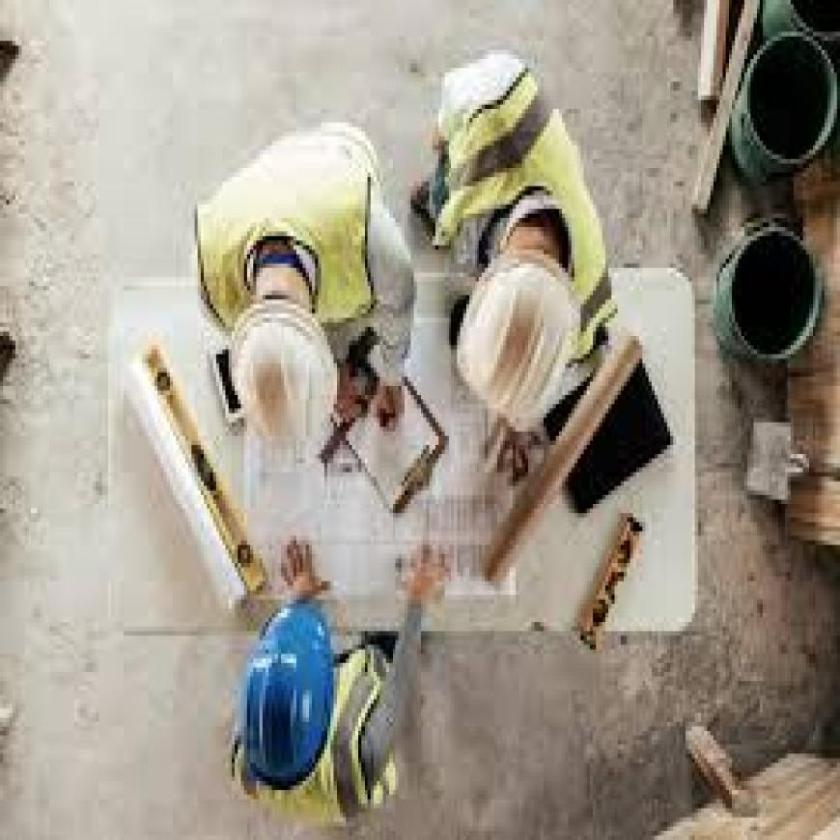Con_casco: (216, 227, 353, 492), (444, 240, 584, 440)
